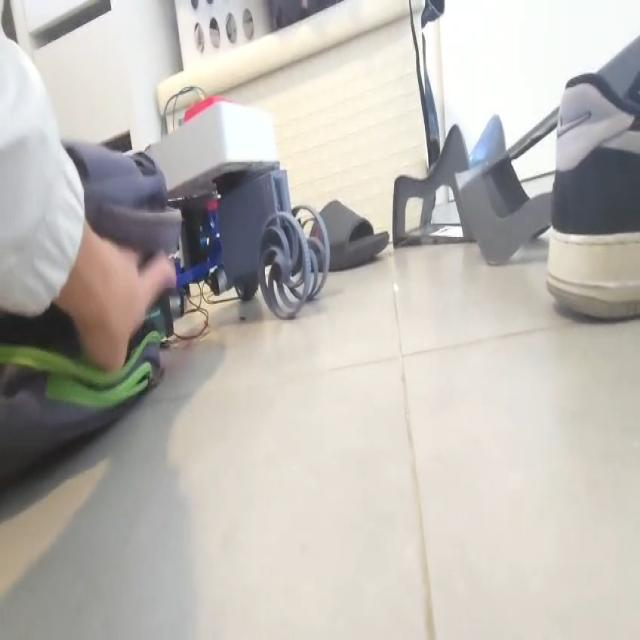Robot: (147, 94, 331, 321)
